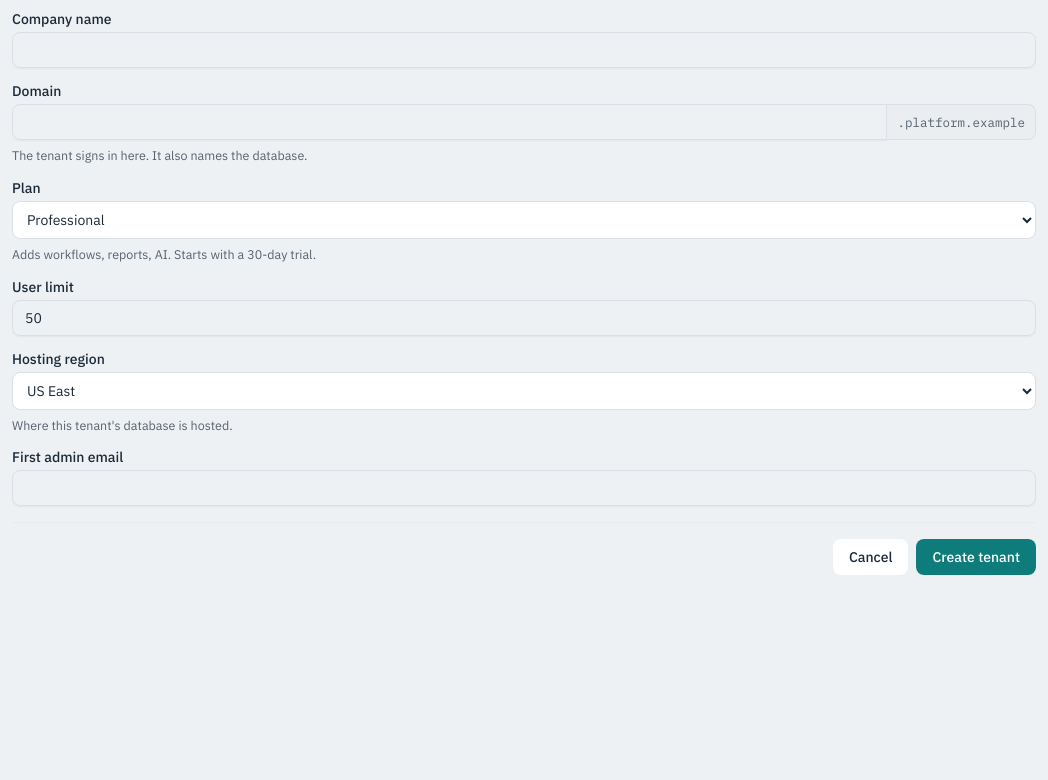
Test: CreateTenantForm › validation › marks the bad fields invalid, links the message to the field, and focuses the first one
The image size is (1048, 780).
Step 1. Click the button "Create tenant" → (976, 557), box [916, 539, 1036, 575]
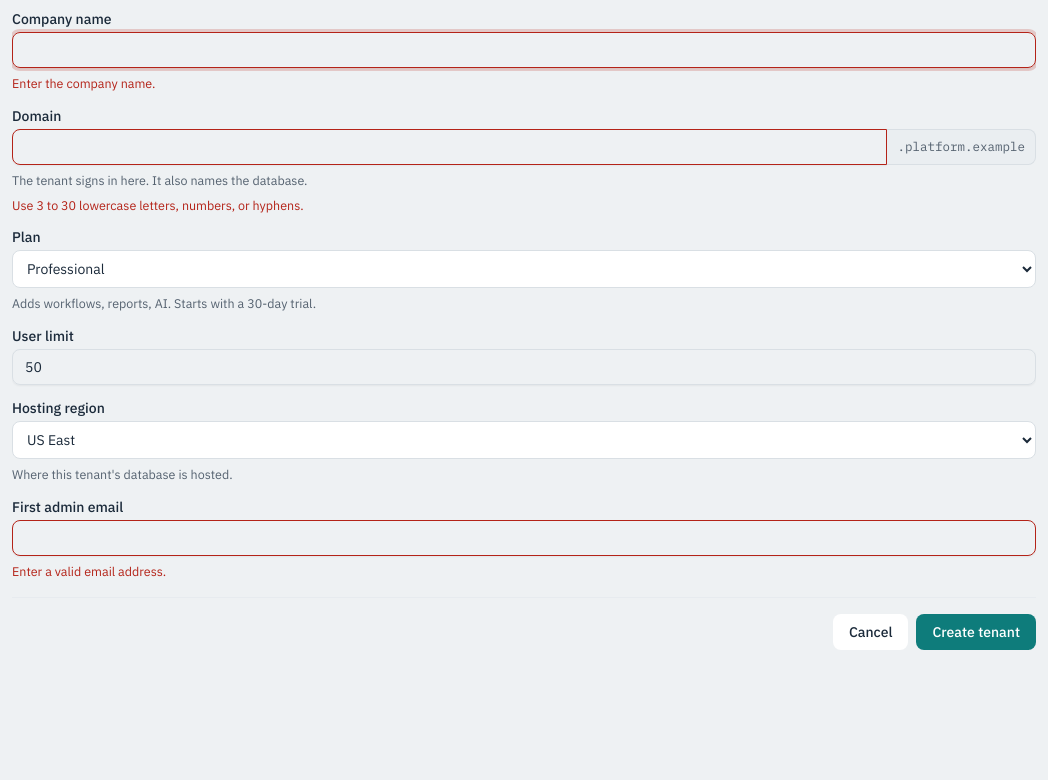
Expected: the text "Enter the company name." is shown, [12, 75, 155, 91]
